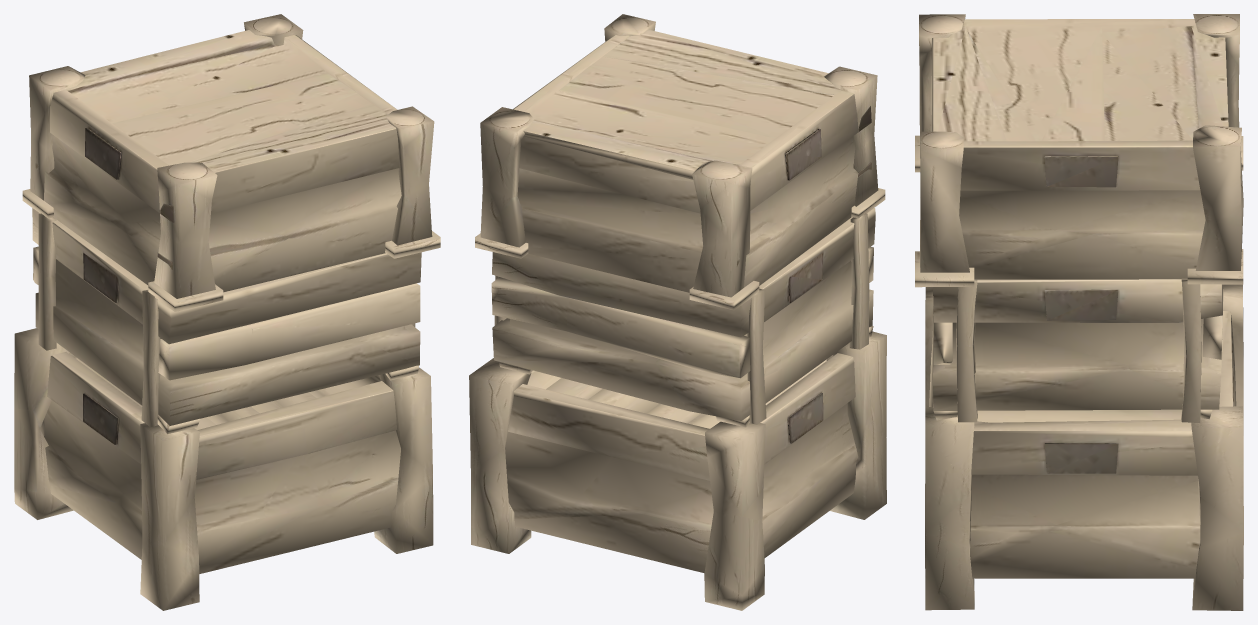
File: crates.glb
The picture shows the model from 3 angles, left to right: view 1: azimuth 30°, elevation 25°; view 2: azimuth 150°, elevation 25°; view 3: azimuth 270°, elevation 25°; orthographic projection. The views are drawn at different scales.
Size of the model in its own units: 0.645 by 0.9531 by 0.6157.
1 material, 1 textured.
